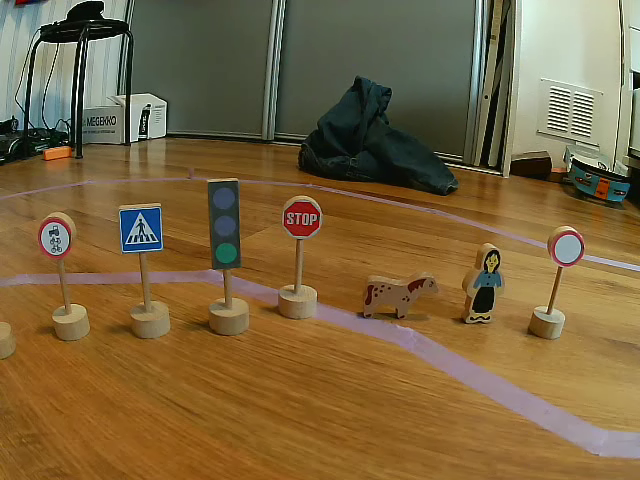fietspad: (38, 214, 73, 260)
groenlicht: (207, 178, 243, 271)
paard: (461, 245, 506, 324), (362, 274, 438, 317)
stopbord: (282, 197, 322, 237)
wegdicht: (549, 230, 586, 266)
zebrapad: (119, 205, 164, 253)
